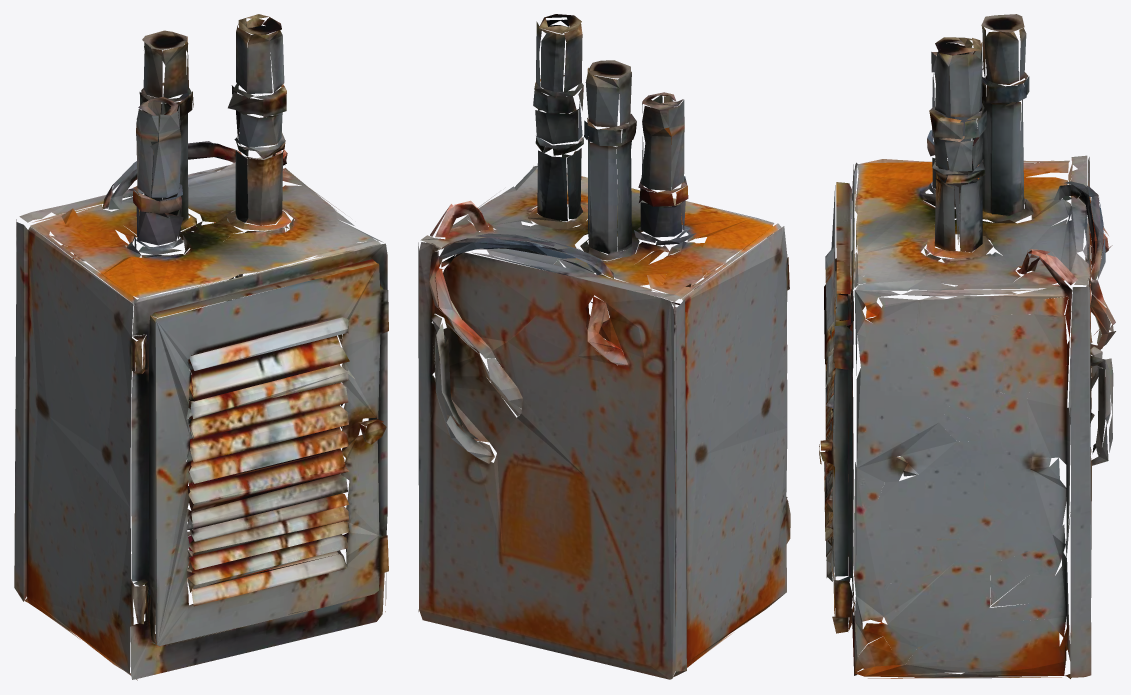
File: power-box.glb
The picture shows the model from 3 angles, left to right: view 1: azimuth 30°, elevation 25°; view 2: azimuth 150°, elevation 25°; view 3: azimuth 270°, elevation 25°; orthographic projection. The views are drawn at different scales.
Parts seen in each view (by area): view 1: prop; view 2: prop; view 3: prop.
Part boxes in pixels (x1,y1,x2,y2): prop: (14, 14, 388, 680); prop: (418, 14, 790, 679); prop: (819, 14, 1115, 678).
Bounding box in the file's own units: 0.239 × 0.5 × 0.2238.
1 material, 1 textured.
